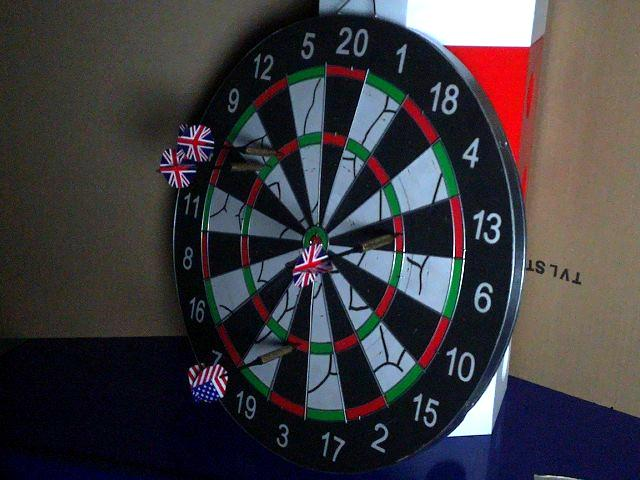triple_12: (277, 140, 296, 155)
triple_13: (395, 217, 407, 253)
triple_3: (289, 337, 305, 350)
triple_9: (259, 157, 277, 181)
